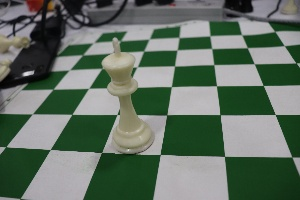white_king: (84, 31, 164, 160)
